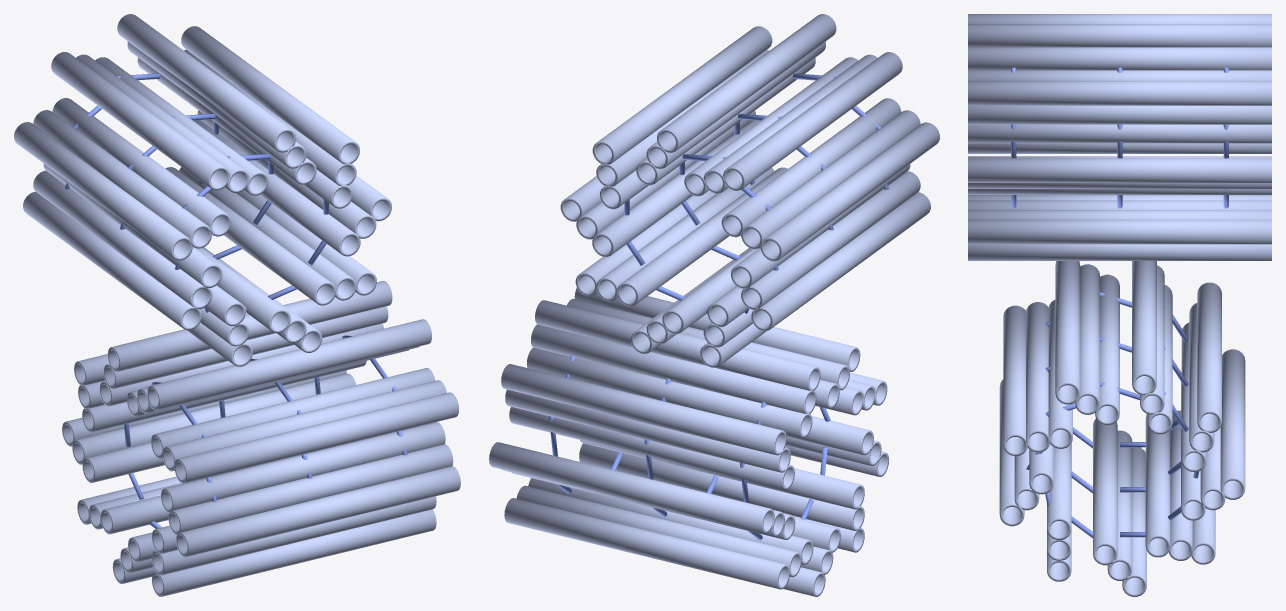
Rendered from centrioles.glb.
3 views of the same model, side by side, from view 1: azimuth 30°, elevation 25°; view 2: azimuth 150°, elevation 25°; view 3: azimuth 270°, elevation 25° (orthographic). The views are drawn at different scales.
Parts seen in each view (by area): view 1: centriole_tubes, centriole_link; view 2: centriole_tubes, centriole_link; view 3: centriole_tubes, centriole_link.
Part boxes in pixels (x1,y1,x2,y2): centriole_tubes: (14, 14, 460, 596); centriole_link: (65, 73, 407, 528); centriole_tubes: (489, 14, 939, 596); centriole_link: (549, 73, 888, 540); centriole_tubes: (968, 14, 1271, 596); centriole_link: (1011, 67, 1228, 538).
Bounding box in the file's own units: 1.52 × 2.36 × 1.35.
